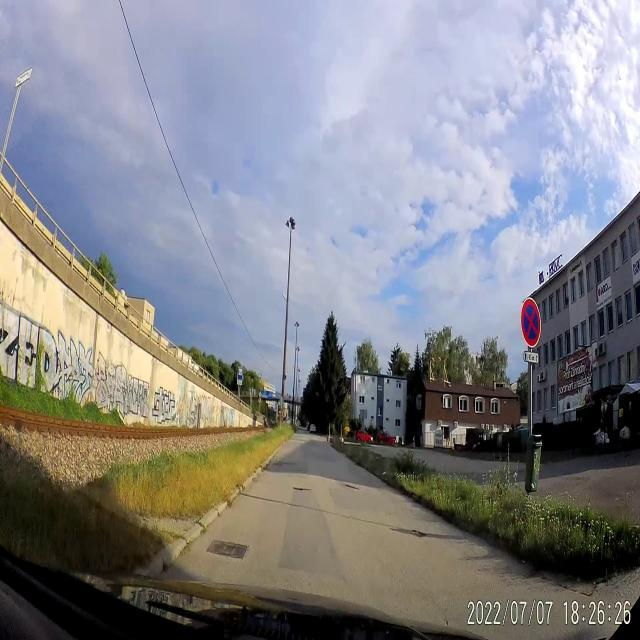Manhole: (201, 533, 253, 562)
Pothole: (341, 478, 362, 493), (410, 524, 427, 538), (292, 483, 314, 493)
